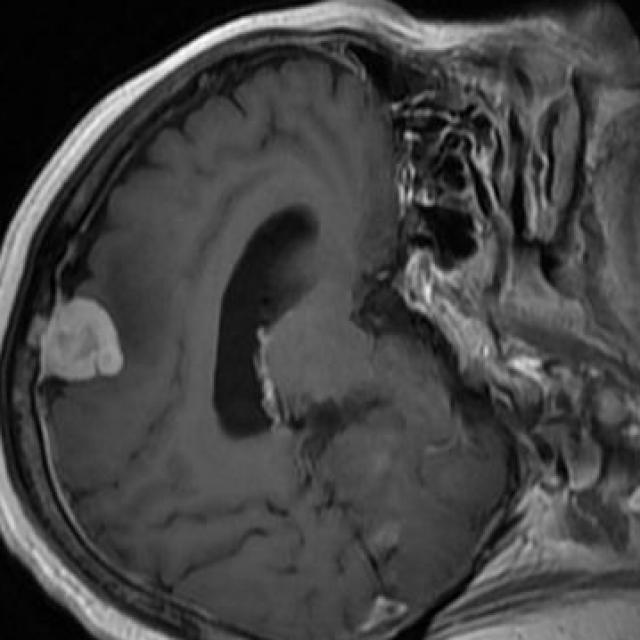meningioma: (43, 298, 125, 383)
